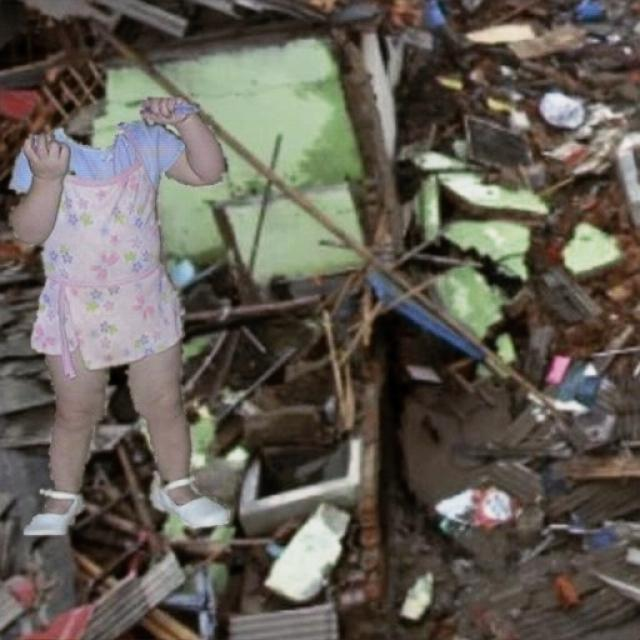Person in Rubble: (9, 98, 229, 534)
